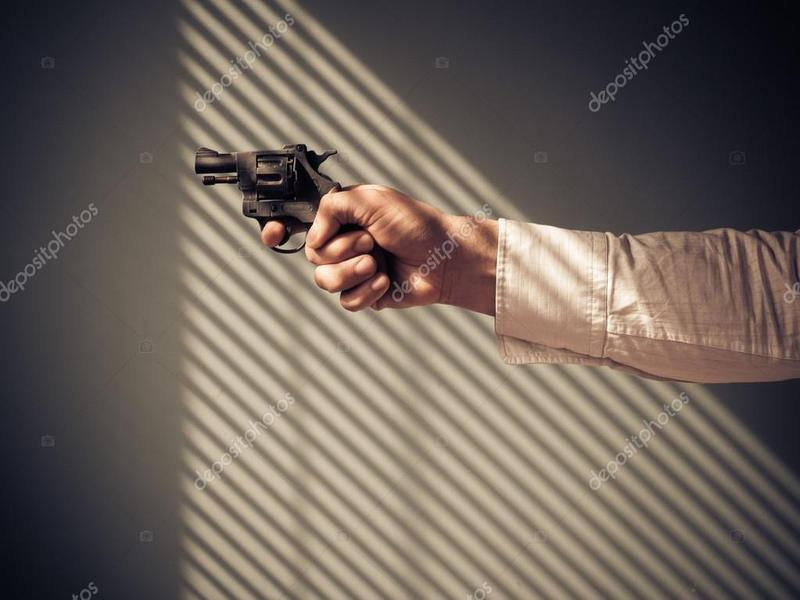Revolver: (181, 134, 364, 276)
